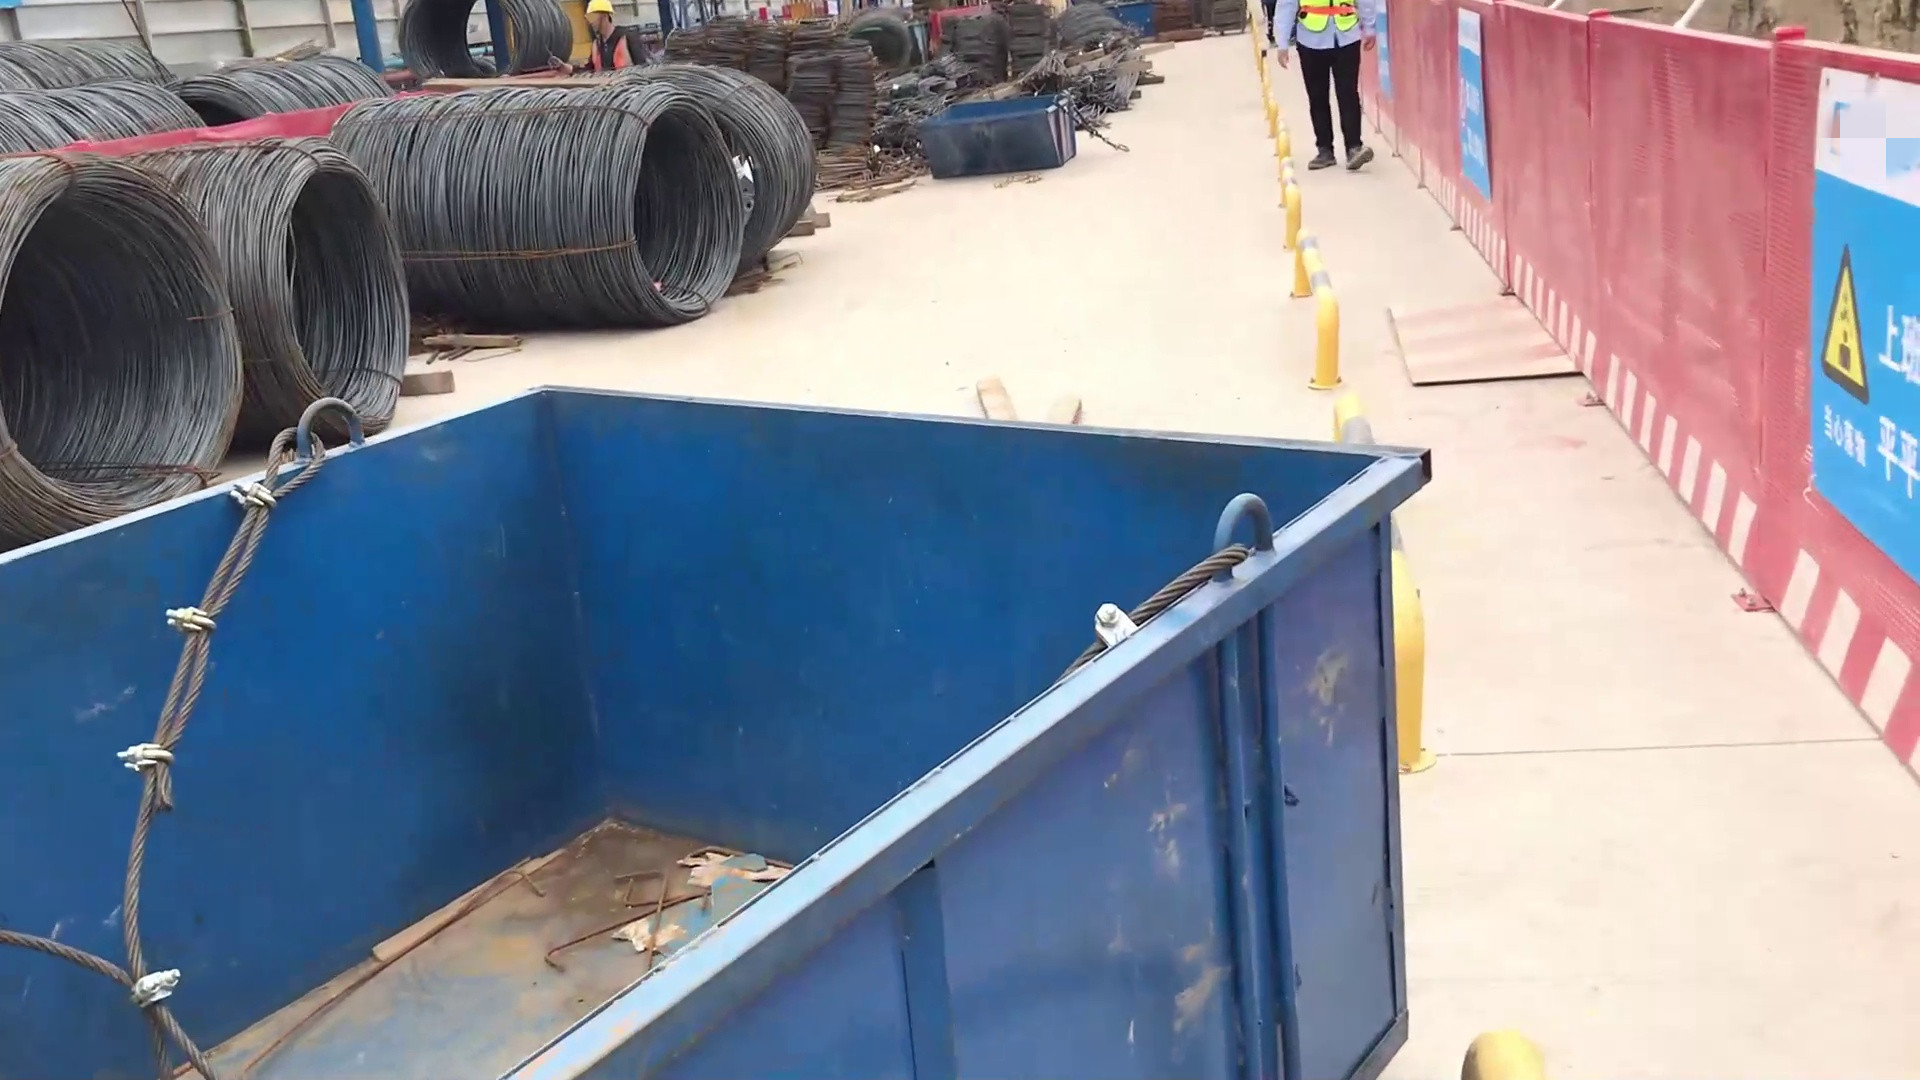fence: (1381, 7, 1920, 781)
helmet: (579, 1, 622, 21)
hopper: (1, 369, 1443, 1078), (912, 88, 1086, 186)
person: (1255, 1, 1393, 181), (567, 1, 641, 76)
slogan: (1800, 57, 1920, 577), (1448, 5, 1498, 205)
vest: (1290, 1, 1362, 39), (586, 35, 635, 67)
